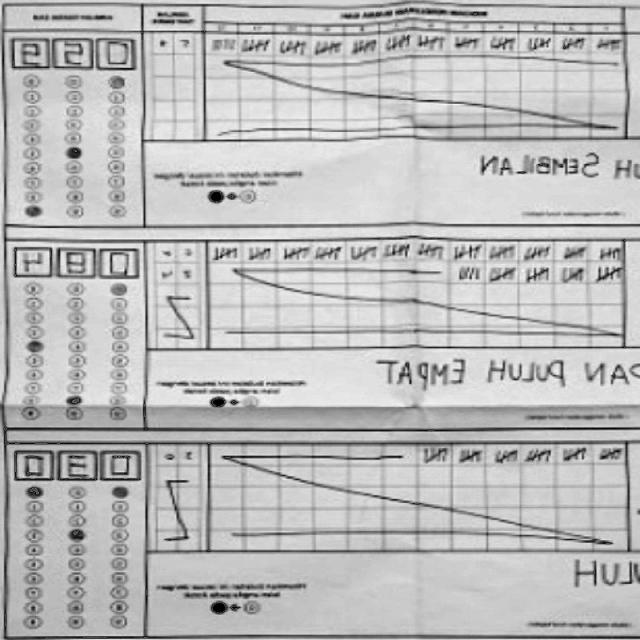Suara: (12, 446, 147, 484), (7, 242, 144, 279), (8, 35, 138, 71)
